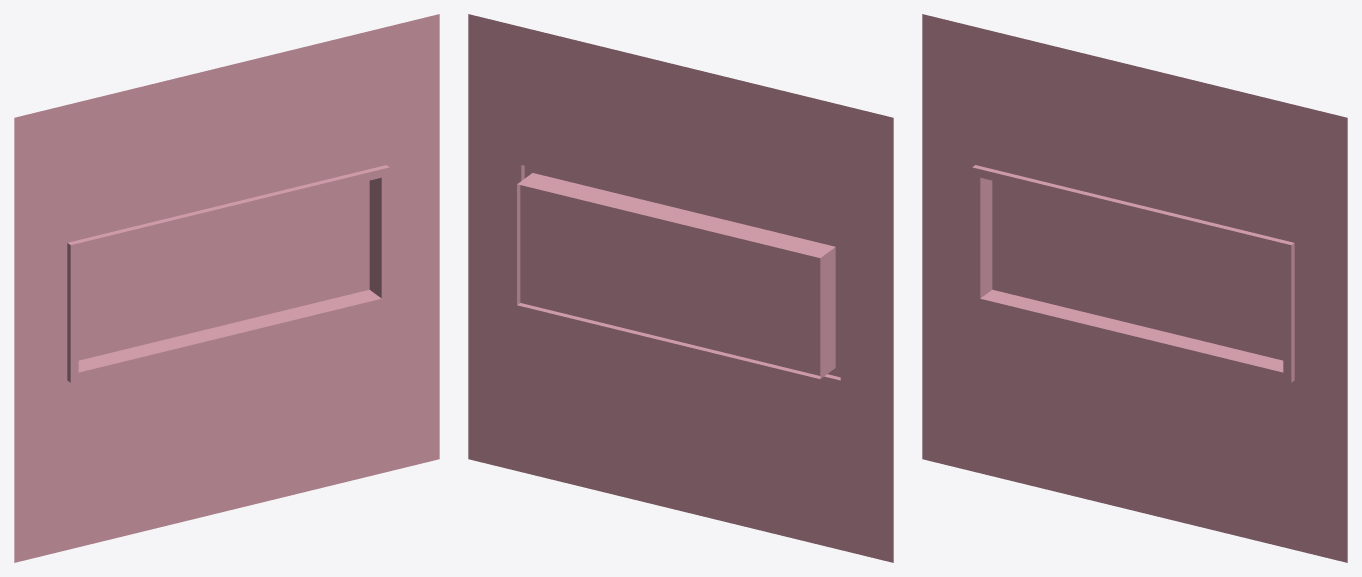
File: IntWallWindow.fbx
3 renders of one model, left to right at view 1: azimuth 30°, elevation 25°; view 2: azimuth 150°, elevation 25°; view 3: azimuth 330°, elevation 25°, orthographic.
Visible parts, largest first — view 1: IntWallWindow; view 2: IntWallWindow; view 3: IntWallWindow.
Part boxes in pixels (bbox=[...]): IntWallWindow: bbox=[14, 14, 439, 562]; IntWallWindow: bbox=[468, 14, 893, 562]; IntWallWindow: bbox=[922, 14, 1347, 562].
Size of the model in its own units: 400 by 400 by 25.31.
